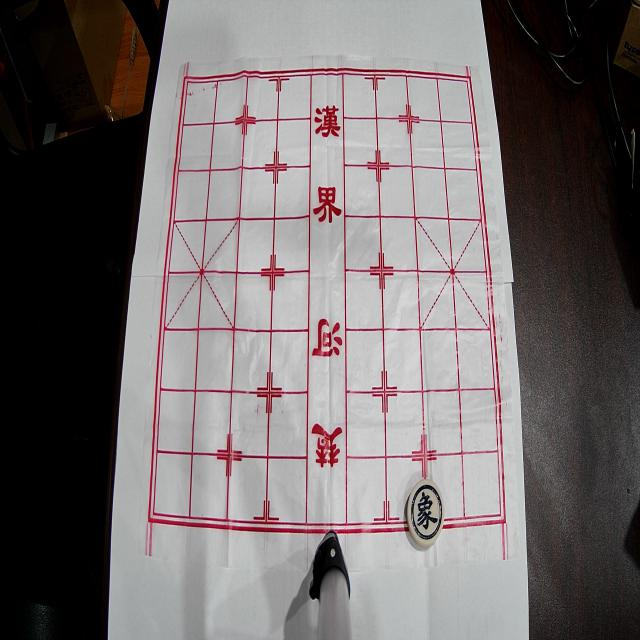black-elephant: (407, 478, 445, 546)
